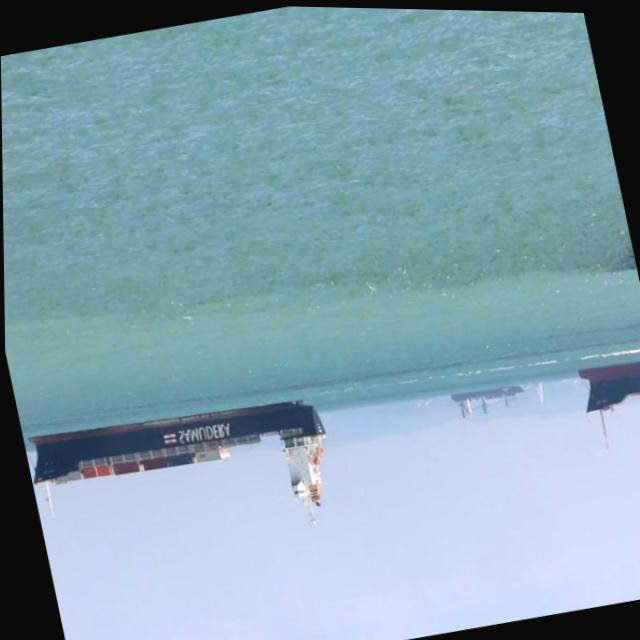ship2: (27, 398, 326, 528)
